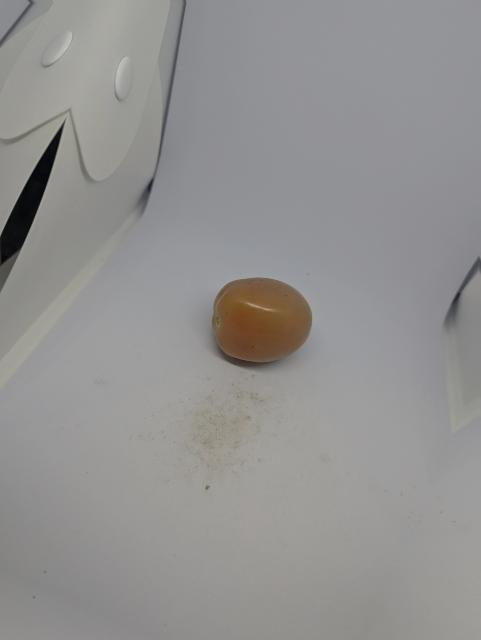turning: (203, 272, 316, 374)
